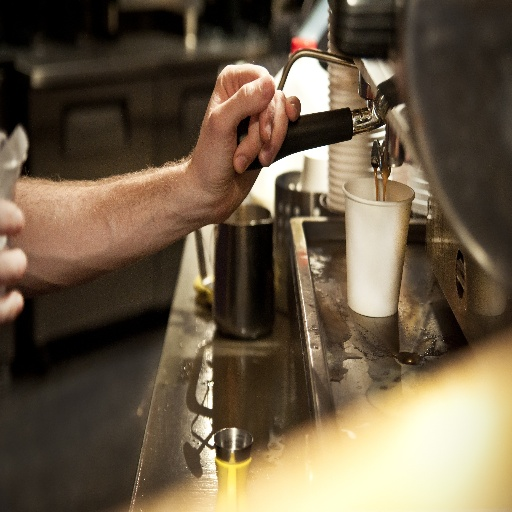hand: (4, 60, 281, 332), (194, 55, 303, 220), (0, 195, 28, 321)
